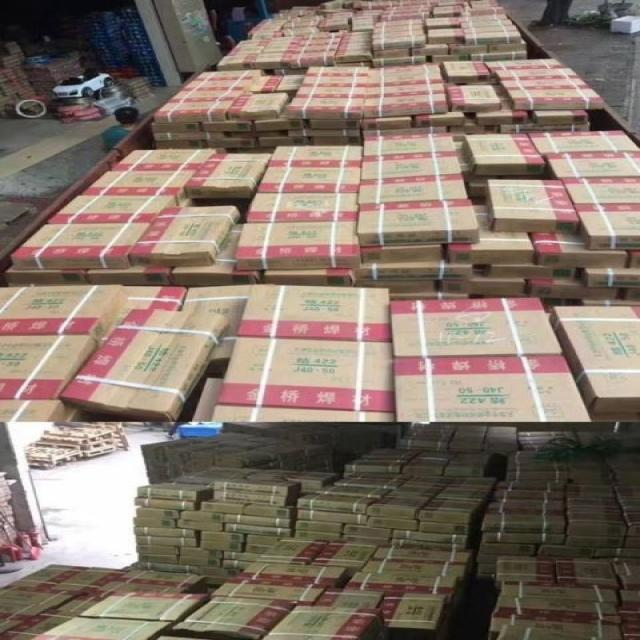box: (57, 309, 231, 422), (216, 335, 396, 413), (393, 356, 592, 422), (389, 297, 563, 358), (549, 305, 640, 420), (140, 432, 332, 485), (236, 283, 392, 341), (0, 283, 131, 343), (129, 206, 243, 266), (9, 222, 151, 270), (0, 334, 100, 400), (233, 221, 361, 272), (180, 284, 252, 374), (168, 223, 264, 286), (359, 199, 480, 247), (171, 596, 296, 639), (485, 179, 580, 233), (447, 205, 533, 264), (104, 285, 188, 344), (261, 606, 393, 640), (77, 591, 212, 623), (44, 194, 179, 224), (80, 170, 195, 204), (184, 153, 272, 197), (376, 593, 455, 639), (209, 404, 396, 423), (531, 232, 627, 269), (488, 613, 623, 639), (29, 616, 175, 640), (359, 173, 468, 204), (463, 133, 545, 174), (245, 192, 359, 221), (211, 578, 329, 606), (493, 595, 621, 620), (575, 203, 640, 250), (343, 572, 459, 598), (528, 129, 640, 155), (235, 562, 351, 587), (361, 151, 463, 179), (256, 166, 361, 193), (543, 151, 640, 180), (371, 545, 473, 572), (97, 569, 208, 593), (501, 581, 619, 603), (215, 476, 301, 506), (356, 259, 473, 281), (1, 586, 83, 617), (108, 149, 219, 171), (363, 132, 455, 156), (361, 93, 448, 118), (345, 448, 425, 475), (253, 537, 329, 565), (307, 540, 380, 569), (561, 177, 639, 204), (168, 466, 263, 488), (9, 563, 89, 589), (265, 146, 364, 167), (0, 613, 77, 640), (203, 498, 297, 520), (508, 88, 604, 109), (555, 556, 620, 587), (505, 449, 569, 480), (52, 568, 131, 593), (443, 271, 525, 295), (227, 92, 291, 121), (529, 279, 617, 300), (5, 265, 91, 286), (361, 560, 465, 577), (87, 266, 175, 286), (153, 100, 233, 122), (365, 62, 444, 84), (0, 399, 71, 423), (419, 499, 484, 525), (477, 91, 528, 124), (484, 513, 564, 534), (39, 593, 112, 616), (288, 97, 364, 119), (361, 244, 444, 264), (311, 587, 385, 609), (261, 269, 356, 286), (297, 493, 377, 513), (499, 556, 556, 584), (364, 78, 447, 97), (400, 450, 460, 475), (448, 85, 501, 113), (183, 70, 264, 88), (191, 379, 224, 423), (137, 482, 213, 501), (567, 513, 627, 537), (369, 496, 431, 519), (496, 623, 579, 640), (167, 85, 245, 103), (489, 264, 575, 280), (484, 58, 568, 74), (297, 507, 368, 525), (495, 67, 580, 82), (444, 452, 495, 477), (461, 25, 523, 45), (301, 66, 369, 84), (517, 431, 581, 450), (155, 136, 256, 148), (487, 500, 567, 515), (500, 78, 592, 91), (580, 268, 640, 287), (392, 530, 468, 545), (255, 108, 304, 131), (499, 122, 591, 134), (431, 485, 492, 503), (293, 83, 365, 98), (356, 0, 464, 10), (287, 471, 341, 490), (449, 426, 487, 453), (443, 61, 491, 82), (380, 4, 436, 22), (319, 484, 391, 498), (224, 523, 291, 538), (383, 483, 445, 499), (225, 513, 291, 528), (568, 462, 613, 484), (389, 537, 465, 550), (135, 495, 196, 511), (483, 532, 564, 544), (609, 557, 639, 589), (605, 454, 639, 482), (332, 476, 405, 489), (356, 281, 433, 293), (483, 426, 517, 453), (567, 497, 621, 514), (495, 488, 564, 501), (288, 50, 335, 69), (372, 34, 427, 50), (248, 17, 288, 39), (532, 109, 588, 124), (404, 424, 453, 441), (419, 520, 469, 536), (273, 74, 305, 98), (363, 115, 413, 130), (259, 36, 303, 53), (539, 545, 596, 558), (295, 37, 341, 53), (416, 112, 465, 127), (567, 484, 616, 499), (479, 543, 535, 556), (351, 9, 384, 31), (389, 292, 469, 301), (237, 469, 297, 481), (368, 517, 419, 531), (341, 524, 392, 538), (565, 536, 624, 548), (316, 12, 353, 31), (495, 479, 564, 489), (400, 474, 457, 486), (135, 527, 197, 538), (0, 612, 32, 633), (136, 537, 197, 548), (333, 47, 372, 64), (296, 520, 343, 534), (348, 471, 413, 481), (255, 53, 293, 70), (317, 0, 363, 14), (153, 132, 224, 141), (448, 476, 497, 489), (372, 55, 425, 67), (176, 519, 224, 532), (247, 74, 283, 91), (141, 562, 192, 574), (341, 534, 392, 546), (189, 566, 244, 577), (216, 55, 256, 70), (373, 22, 423, 34), (468, 0, 508, 15), (397, 438, 447, 450), (620, 610, 640, 639), (288, 129, 360, 137), (449, 117, 485, 133), (428, 28, 464, 44), (295, 530, 343, 542), (201, 121, 253, 132), (471, 51, 528, 61), (201, 531, 244, 544), (151, 121, 201, 132), (311, 119, 361, 130), (457, 12, 507, 23), (372, 29, 421, 40), (460, 18, 513, 28), (339, 31, 372, 47), (477, 554, 533, 563), (259, 137, 309, 147), (611, 481, 640, 498), (136, 545, 180, 556), (137, 508, 180, 519), (177, 557, 220, 568), (177, 548, 224, 558), (373, 47, 412, 59), (488, 41, 527, 53), (284, 16, 323, 28), (135, 518, 177, 529), (221, 551, 263, 562), (183, 512, 224, 523), (200, 541, 241, 552), (619, 589, 640, 610), (448, 43, 488, 54), (596, 548, 640, 558), (425, 17, 461, 29), (376, 18, 423, 27), (309, 137, 361, 145), (280, 26, 321, 36), (412, 44, 449, 55), (300, 31, 345, 40), (225, 46, 265, 56), (619, 495, 640, 513), (625, 512, 640, 537), (433, 5, 463, 17), (245, 543, 275, 555), (469, 179, 488, 197), (221, 559, 255, 569), (273, 66, 309, 75), (139, 555, 177, 563), (247, 535, 277, 545), (432, 54, 469, 62), (235, 39, 271, 46), (207, 577, 235, 586), (237, 147, 275, 153), (625, 536, 640, 550), (67, 411, 87, 421), (629, 251, 640, 269), (479, 563, 497, 574), (213, 147, 232, 153)
